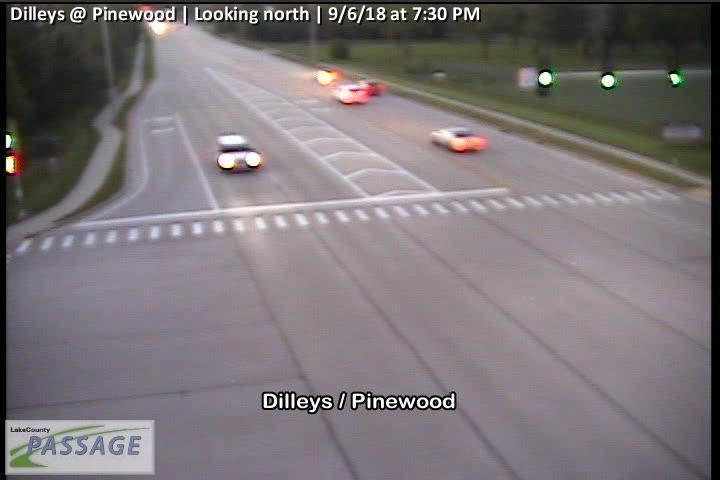SUV: (217, 134, 260, 171), (333, 84, 368, 104)
Sedan: (431, 127, 486, 153), (361, 79, 382, 96)
